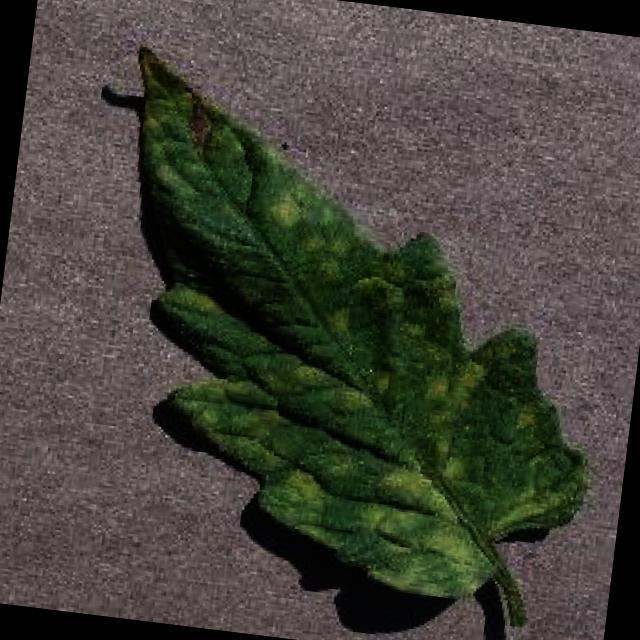Tomato mold leaf: (74, 43, 632, 608)
